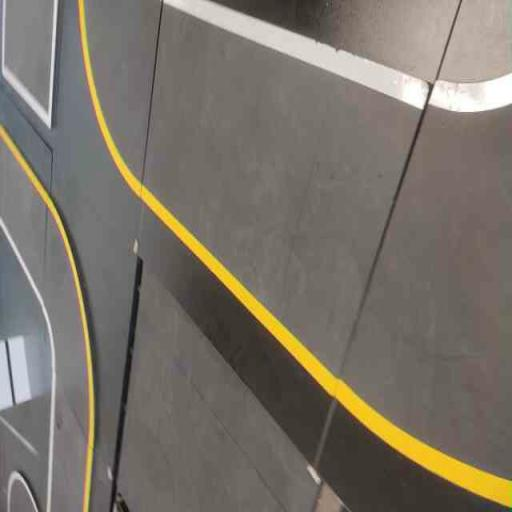straight: (137, 0, 440, 429)
